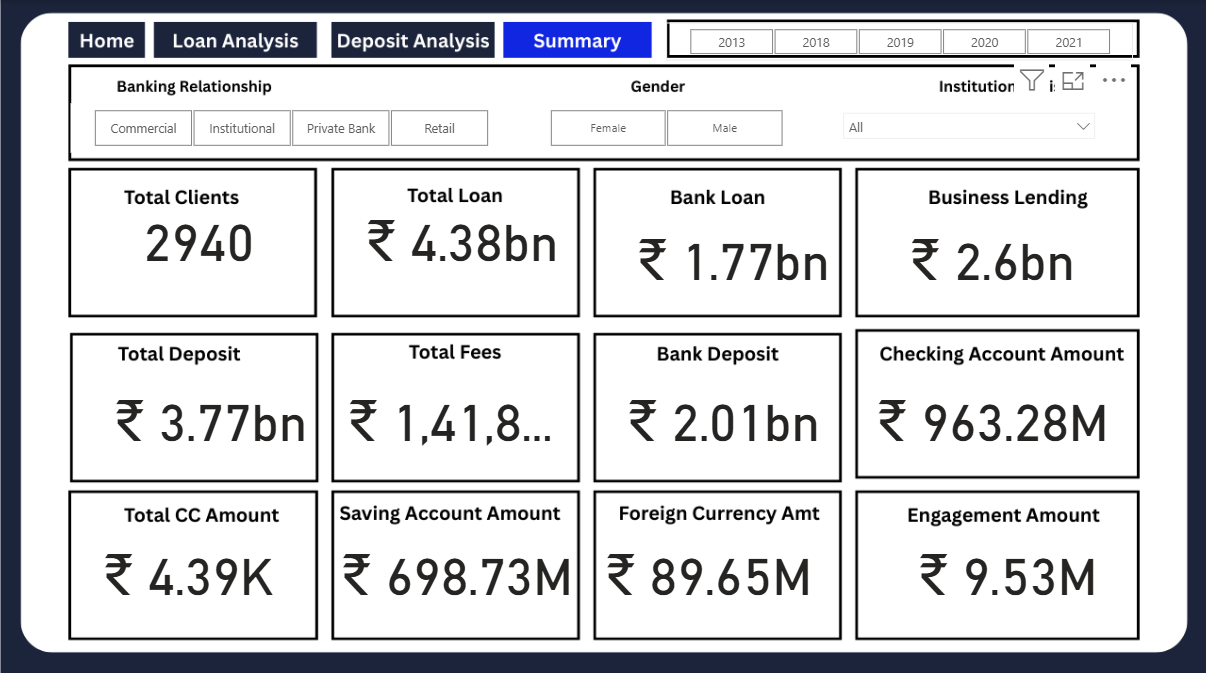

The page's visual inventory and layout, read from the dashboard file:
{"tool":"powerbi","page":{"name":"Summary","canvas":[1280,720],"ordinal":3},"visuals":[{"type":"slicer","fields":{"Values":["banking_case customer.Year of Joining"]},"box":[706.7,23.3,495,40],"z":0},{"type":"actionButton","box":[70,23.3,85,40],"z":1000},{"type":"actionButton","box":[162.4,27.6,171.8,40],"z":2000},{"type":"actionButton","box":[351.8,27.6,174.7,40],"z":3000},{"type":"actionButton","box":[533.5,27.6,160.6,40],"z":4000},{"type":"card","fields":{"Values":["banking_case customer.Total Clients"]},"box":[113.3,206.7,195,86.7],"z":5000},{"type":"card","fields":{"Values":["banking_case customer.Total Loan"]},"box":[376.7,206.7,225,86.7],"z":6000},{"type":"card","fields":{"Values":["banking_case customer.Total Fees"]},"box":[351.7,398.3,250,86.7],"z":7000},{"type":"slicer","fields":{"Values":["banking_case customer.BRId"]},"box":[75,110,466.7,51.7],"z":8000},{"type":"slicer","fields":{"Values":["banking_case customer.GenderId"]},"box":[558.3,110,295,51.7],"z":9000},{"type":"slicer","fields":{"Values":["banking_case customer.IAId"]},"box":[885,110,286.7,51.7],"z":10000},{"type":"card","fields":{"Values":["banking_case customer.Total Deposit"]},"box":[113.3,398.3,220,86.7],"z":11000},{"type":"card","fields":{"Values":["Sum(banking_case customer.Bank Loans)"]},"box":[670,226.7,215,86.7],"z":12000},{"type":"card","fields":{"Values":["Sum(banking_case customer.Bank Deposits)"]},"box":[658.3,398.3,216.7,86.7],"z":13000},{"type":"card","fields":{"Values":["Sum(banking_case customer.Business Lending)"]},"box":[955,226.7,195,86.7],"z":14000},{"type":"card","fields":{"Values":["Sum(banking_case customer.Checking Accounts)"]},"box":[918.3,398.3,268.3,86.7],"z":15000},{"type":"card","fields":{"Values":["Sum(banking_case customer.Saving Accounts)"]},"box":[355,561.7,258.3,86.7],"z":16000},{"type":"card","fields":{"Values":["Sum(banking_case customer.Foreign Currency Account)"]},"box":[626.7,561.7,248.3,86.7],"z":17000},{"type":"card","fields":{"Values":["banking_case customer.Total CC Amount"]},"box":[88.3,561.7,220,86.7],"z":18000},{"type":"card","fields":{"Values":["Sum(banking_case customer.Credit Card Balance)"]},"box":[933.3,561.7,268.3,86.7],"z":19000}]}

Visuals, with their boxes in screenshot pixels (x1, y1, x2, y2), scaled from the page's 1280x720 canvas onto the 1206x673 screenshot:
slicer - banking_case customer.Year of Joining: [666, 22, 1132, 59]
actionButton: [66, 22, 146, 59]
actionButton: [153, 26, 315, 63]
actionButton: [331, 26, 496, 63]
actionButton: [503, 26, 654, 63]
card - banking_case customer.Total Clients: [107, 193, 290, 274]
card - banking_case customer.Total Loan: [355, 193, 567, 274]
card - banking_case customer.Total Fees: [331, 372, 567, 453]
slicer - banking_case customer.BRId: [71, 103, 510, 151]
slicer - banking_case customer.GenderId: [526, 103, 804, 151]
slicer - banking_case customer.IAId: [834, 103, 1104, 151]
card - banking_case customer.Total Deposit: [107, 372, 314, 453]
card - Sum(banking_case customer.Bank Loans): [631, 212, 834, 293]
card - Sum(banking_case customer.Bank Deposits): [620, 372, 824, 453]
card - Sum(banking_case customer.Business Lending): [900, 212, 1084, 293]
card - Sum(banking_case customer.Checking Accounts): [865, 372, 1118, 453]
card - Sum(banking_case customer.Saving Accounts): [334, 525, 578, 606]
card - Sum(banking_case customer.Foreign Currency Account): [590, 525, 824, 606]
card - banking_case customer.Total CC Amount: [83, 525, 290, 606]
card - Sum(banking_case customer.Credit Card Balance): [879, 525, 1132, 606]
